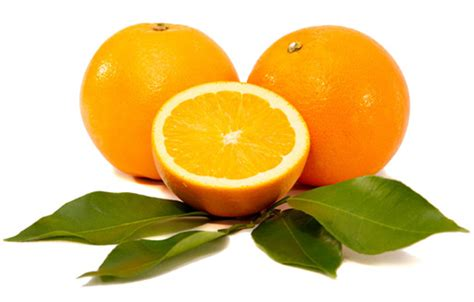orange: (245, 22, 413, 195), (75, 18, 242, 189)
